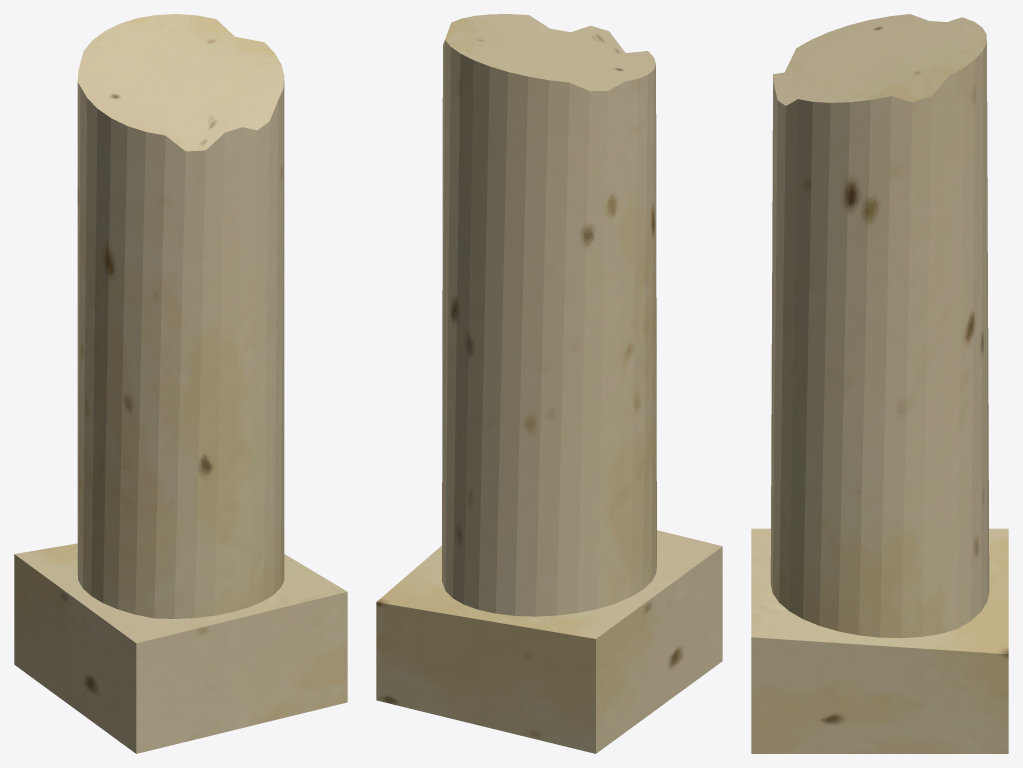
File: colonne_vol1.fbx
3 renders of one model, left to right at view 1: azimuth 30°, elevation 25°; view 2: azimuth 150°, elevation 25°; view 3: azimuth 270°, elevation 25°, orthographic. The views are drawn at different scales.
Parts seen in each view (by area): view 1: Cylinder; view 2: Cylinder; view 3: Cylinder.
Boxes of the visible parts, <box> form: Cylinder: <box>14,14,347,753</box>; Cylinder: <box>376,14,722,753</box>; Cylinder: <box>751,14,1008,753</box>.
Size of the model in its own units: 100 by 100 by 283.
1 material, 1 textured.
